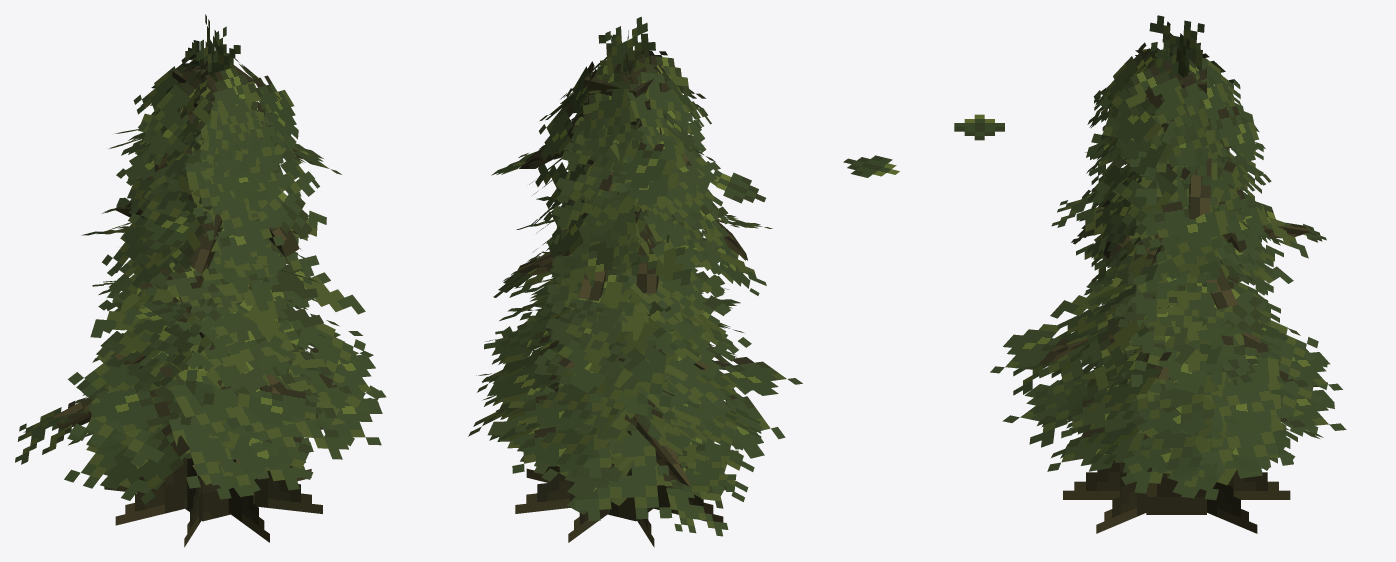
Rendered from Tree3.fbx.
The picture shows the model from 3 angles, left to right: view 1: azimuth 30°, elevation 25°; view 2: azimuth 150°, elevation 25°; view 3: azimuth 270°, elevation 25°; orthographic projection.
Parts seen in each view (by area): view 1: plane_51, plane_397, plane_409, plane_385, plane_140, plane_141, plane_136, plane_380, plane_441, plane_297, plane_49, plane_323 (+62 smaller); view 2: plane_364, plane_430, plane_211, plane_425, plane_450, plane_362, plane_311, plane_449, plane_168, plane_51, plane_213, plane_397 (+60 smaller); view 3: plane_216, plane_143, plane_219, plane_341, plane_301, plane_297, cuboid, plane_303, plane_141, plane_439, plane_378, plane_305 (+57 smaller).
Boxes of the visible parts, x1,y1,x2,y2 form: plane_51: [88, 385, 170, 441]; plane_397: [107, 424, 189, 504]; plane_409: [138, 70, 213, 155]; plane_385: [166, 401, 269, 488]; plane_140: [217, 367, 328, 452]; plane_141: [238, 385, 326, 428]; plane_136: [159, 362, 250, 447]; plane_380: [222, 431, 313, 479]; plane_441: [115, 457, 187, 525]; plane_297: [288, 309, 365, 396]; plane_49: [67, 350, 181, 421]; plane_323: [205, 67, 272, 143]; plane_364: [572, 460, 672, 520]; plane_430: [638, 54, 692, 130]; plane_211: [574, 424, 669, 478]; plane_425: [578, 62, 632, 138]; plane_450: [666, 444, 738, 491]; plane_362: [512, 426, 605, 473]; plane_311: [620, 329, 678, 407]; plane_449: [663, 473, 728, 536]; plane_168: [560, 201, 638, 269]; plane_51: [714, 357, 802, 395]; plane_213: [515, 395, 603, 432]; plane_397: [722, 388, 785, 458]; plane_216: [1125, 60, 1200, 147]; plane_143: [1038, 334, 1125, 408]; plane_219: [1149, 201, 1228, 248]; plane_341: [1199, 415, 1293, 474]; plane_301: [1095, 157, 1190, 235]; plane_297: [1070, 352, 1171, 419]; cuboid: [1146, 66, 1206, 514]; plane_303: [1210, 342, 1288, 427]; plane_141: [990, 324, 1069, 373]; plane_439: [1100, 81, 1163, 144]; plane_378: [1029, 371, 1126, 447]; plane_305: [1193, 335, 1279, 390].
Size of the model in its own units: 299 by 396 by 325.
Materials: 1 (1 with a texture image).
